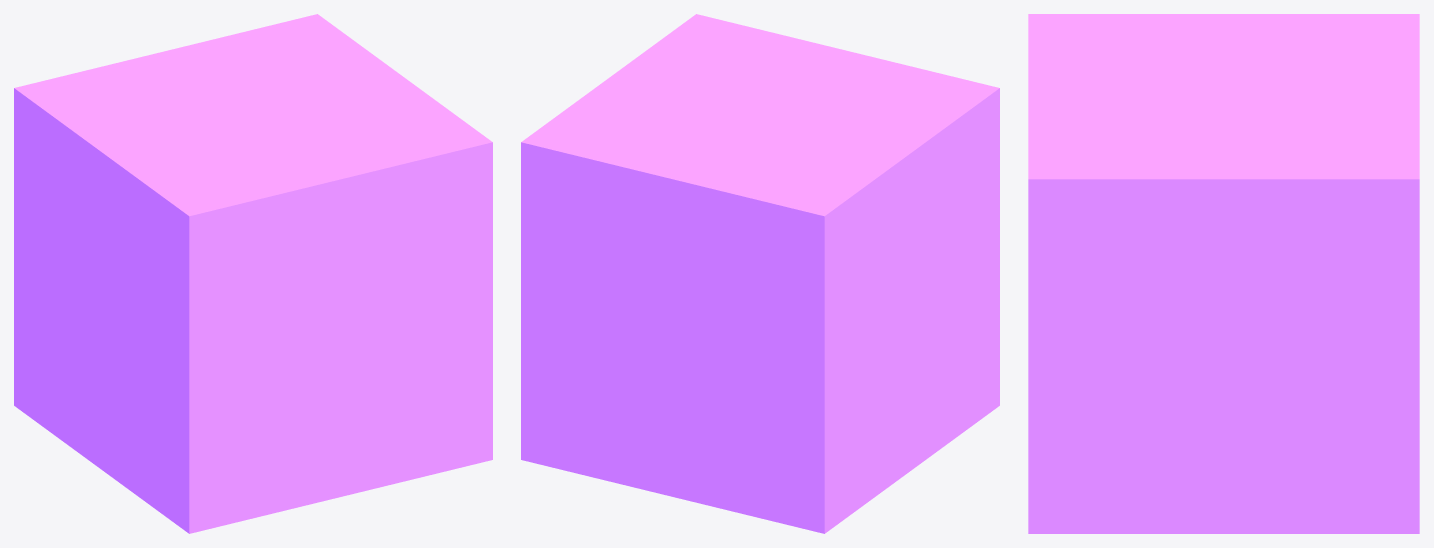
3 renders of one model, left to right at view 1: azimuth 30°, elevation 25°; view 2: azimuth 150°, elevation 25°; view 3: azimuth 270°, elevation 25°, orthographic. The views are drawn at different scales.
Visible parts, largest first — view 1: pCube2; view 2: pCube2; view 3: pCube2.
Part boxes in pixels (x1,y1,x2,y2): pCube2: (14, 14, 492, 533); pCube2: (521, 14, 999, 533); pCube2: (1028, 14, 1419, 533).
Size of what is drawn, in the model's own units: 0.0288 by 0.0288 by 0.0288.
